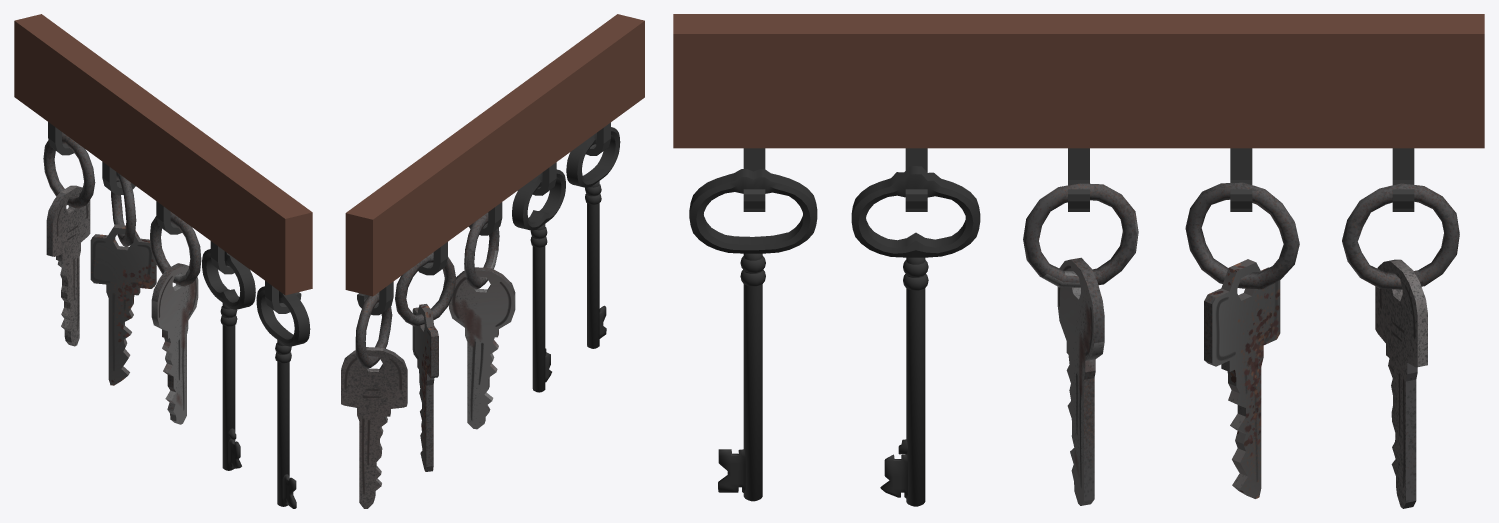
File: Keyrack.fbx
3 views of the same model, side by side, from view 1: azimuth 30°, elevation 25°; view 2: azimuth 150°, elevation 25°; view 3: azimuth 270°, elevation 25° (orthographic). The views are drawn at different scales.
Visible parts, largest first — view 1: Keyholder, Key Square, Key Circle, Key Round, KeyBedroom, KeyCabin; view 2: Keyholder, Key Round, Key Circle, Key Square, KeyBedroom, KeyCabin; view 3: Keyholder, Key Square, Key Round, Key Circle, KeyBedroom, KeyCabin.
Part boxes in pixels (<box>): Keyholder: <box>14,14,312,313</box>; Key Square: <box>90,172,156,385</box>; Key Circle: <box>150,212,201,424</box>; Key Round: <box>43,132,95,346</box>; KeyBedroom: <box>202,249,255,470</box>; KeyCabin: <box>256,286,310,508</box>; Keyholder: <box>345,14,644,315</box>; Key Round: <box>341,292,407,508</box>; Key Circle: <box>449,212,515,429</box>; Key Square: <box>395,252,456,471</box>; KeyBedroom: <box>512,169,565,392</box>; KeyCabin: <box>566,127,620,348</box>; Keyholder: <box>673,14,1484,211</box>; Key Square: <box>1185,182,1299,498</box>; Key Round: <box>1342,183,1459,508</box>; Key Circle: <box>1023,183,1138,505</box>; KeyBedroom: <box>851,166,980,506</box>; KeyCabin: <box>689,169,817,501</box>.
Size of the model in its own units: 2.52 by 13.7 by 21.33.
